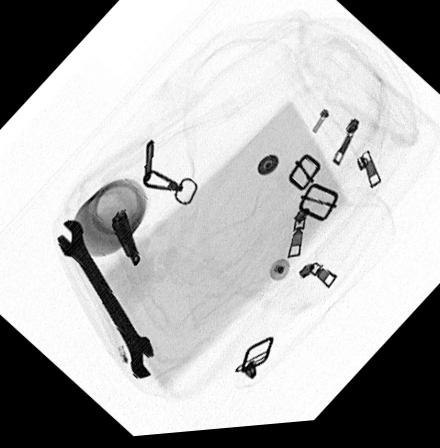Wrench: (54, 219, 156, 383)
